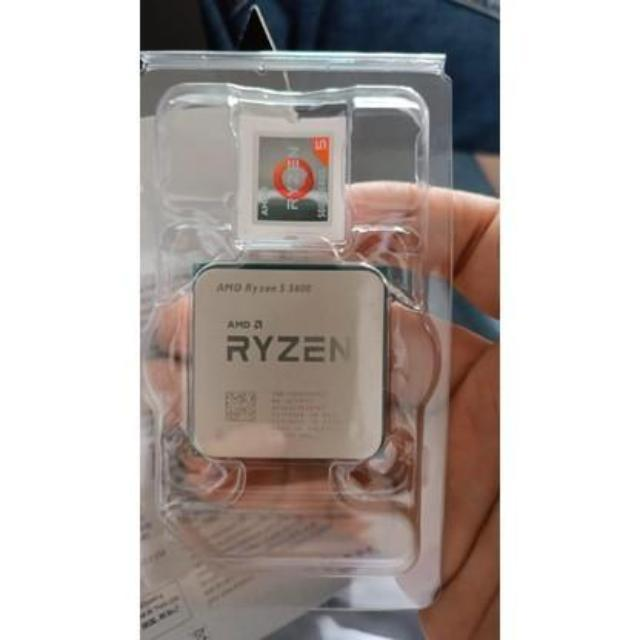CPU: (188, 265, 383, 463)
